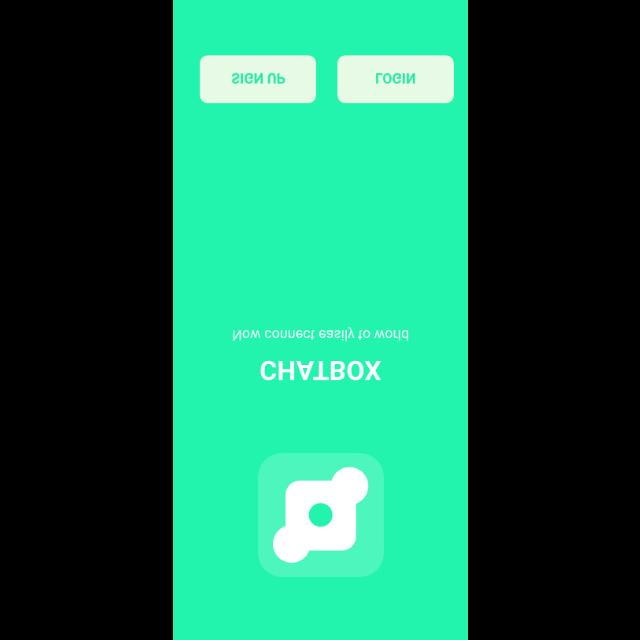image: (258, 453, 384, 577)
text: (232, 327, 408, 341), (260, 360, 380, 380)
textbutton: (200, 55, 316, 103), (337, 55, 453, 103)
